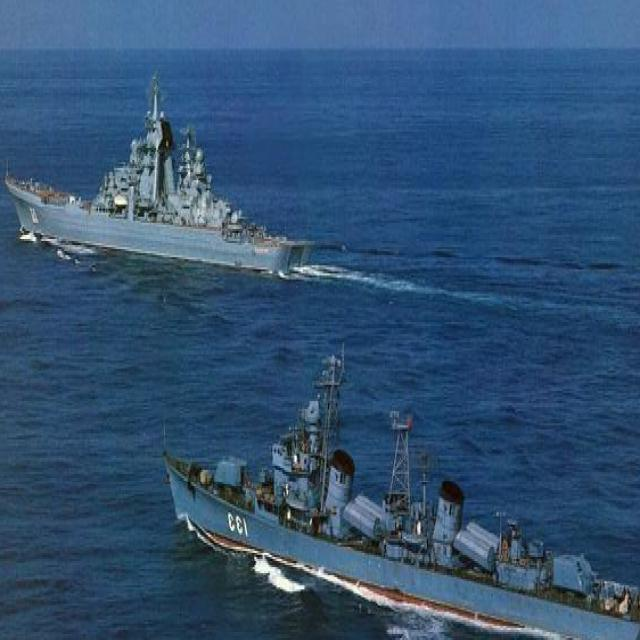navalvessels: (149, 356, 640, 640), (9, 56, 342, 282)
